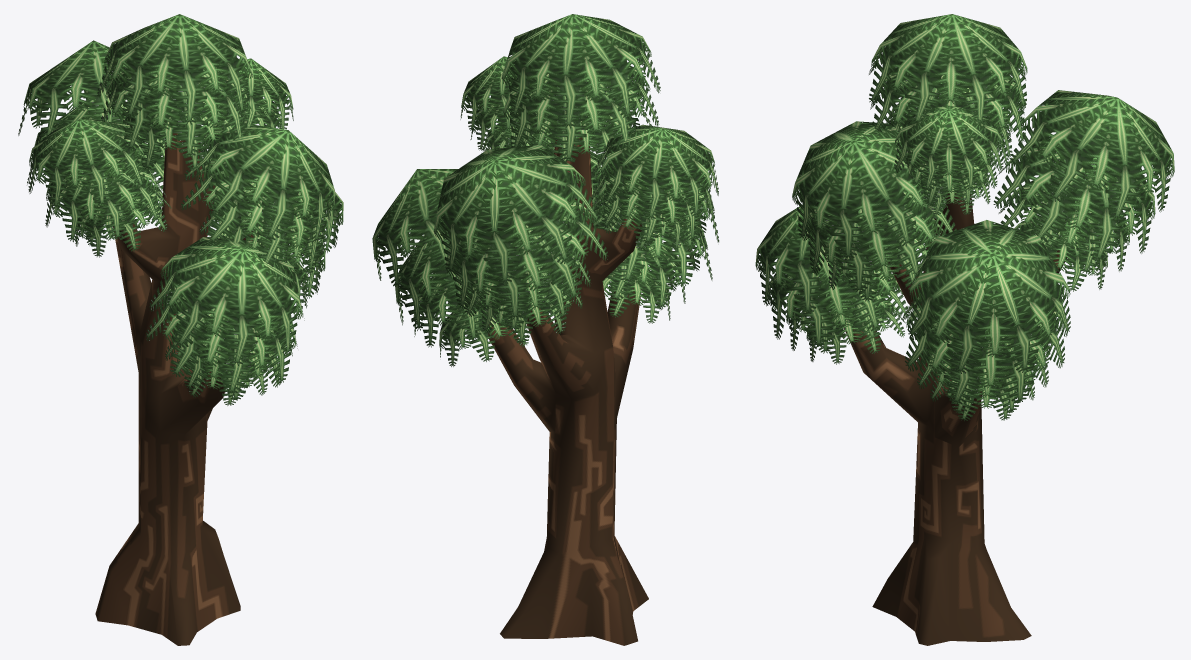
The model's file is ToonTree_03_Var_01.fbx.
The picture shows the model from 3 angles, left to right: view 1: azimuth 30°, elevation 25°; view 2: azimuth 150°, elevation 25°; view 3: azimuth 270°, elevation 25°; orthographic projection. The views are drawn at different scales.
Parts seen in each view (by area): view 1: Leaves, Bark; view 2: Leaves, Bark; view 3: Leaves, Bark.
Boxes of the visible parts, x1,y1,x2,y2 form: Leaves: (18, 14, 343, 405); Bark: (95, 133, 254, 645); Leaves: (372, 14, 719, 366); Bark: (488, 133, 648, 645); Leaves: (755, 14, 1174, 421); Bark: (844, 191, 1067, 645).
Size of the model in its own units: 7.26 by 13.08 by 8.27.
